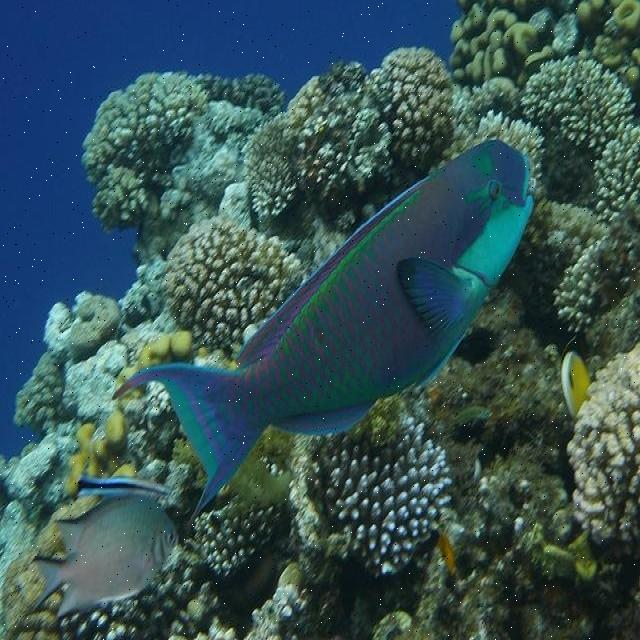fish: (113, 139, 536, 530), (24, 496, 185, 623), (76, 475, 173, 498)
reefs: (0, 0, 639, 639)
